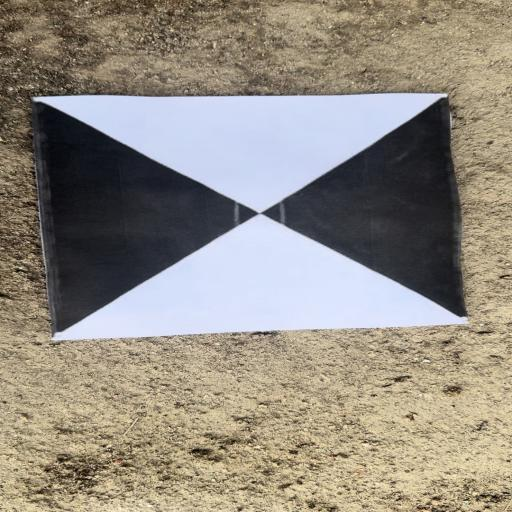target: (41, 97, 467, 335)
